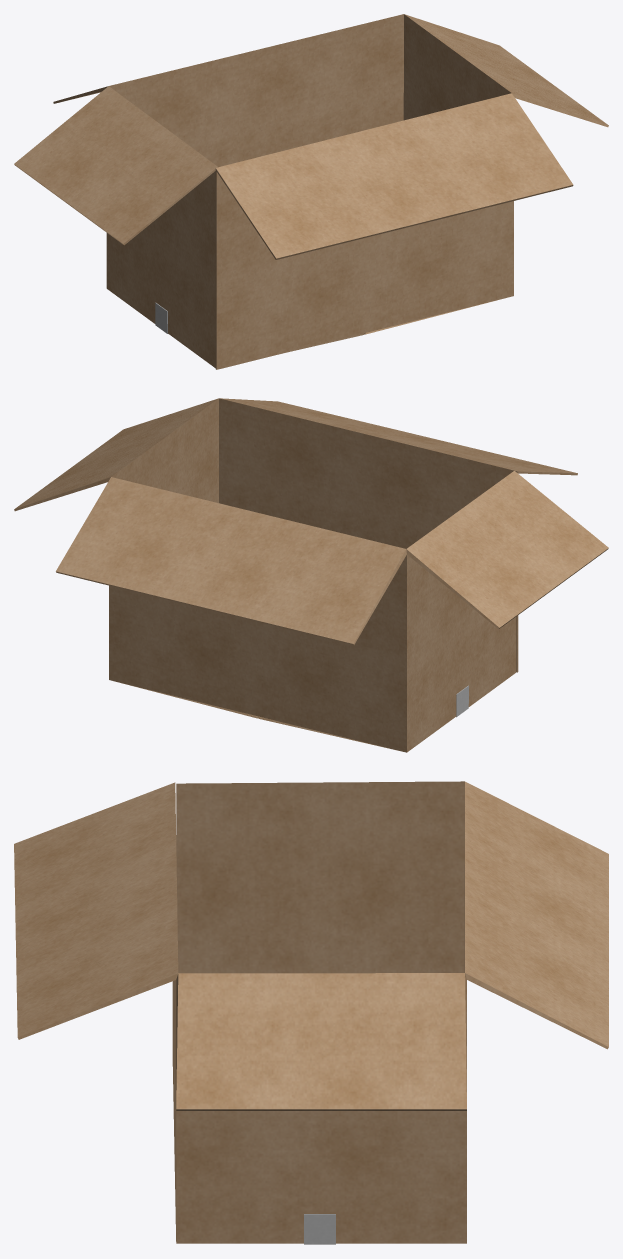
The model's file is cardboard_box_open.glb.
3 views of the same model, one above another, from view 1: azimuth 30°, elevation 25°; view 2: azimuth 150°, elevation 25°; view 3: azimuth 270°, elevation 25° (orthographic). The views are drawn at different scales.
Visible parts, largest first — view 1: Cube.002; view 2: Cube.002; view 3: Cube.002, Cube.003.
Part boxes in pixels (x1=…): Cube.002: x1=14, y1=14, x2=608, y2=369; Cube.002: x1=14, y1=398, x2=608, y2=752; Cube.002: x1=14, y1=781, x2=608, y2=1243; Cube.003: x1=304, y1=1214, x2=335, y2=1244.
Size of the model in its own units: 5.13 by 2.08 by 4.09.
1 material, 1 textured.
